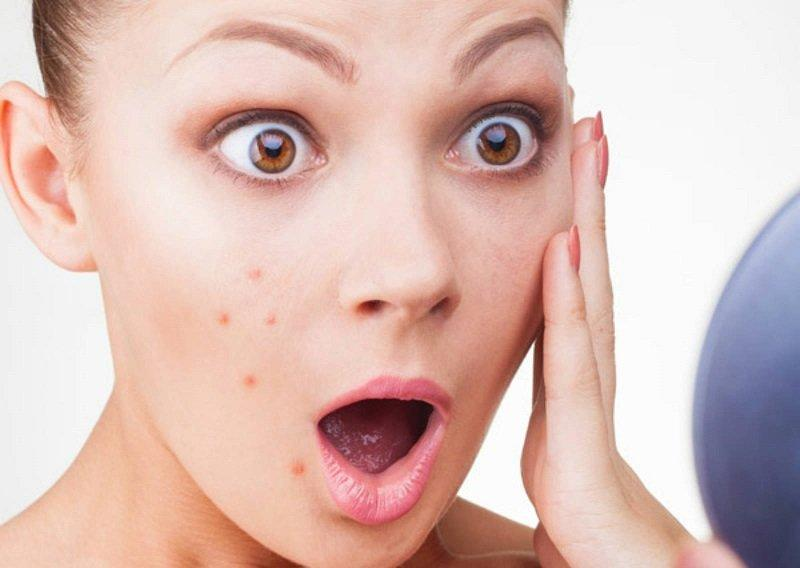Acne: (202, 251, 319, 500)
